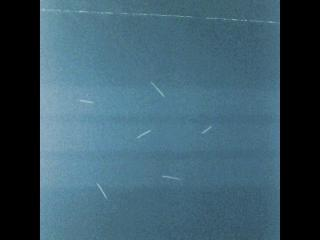crack: (40, 5, 280, 25)
scratch: (92, 171, 115, 202), (143, 171, 185, 187), (146, 77, 171, 102), (134, 125, 155, 143), (198, 123, 214, 139), (78, 96, 96, 105)
